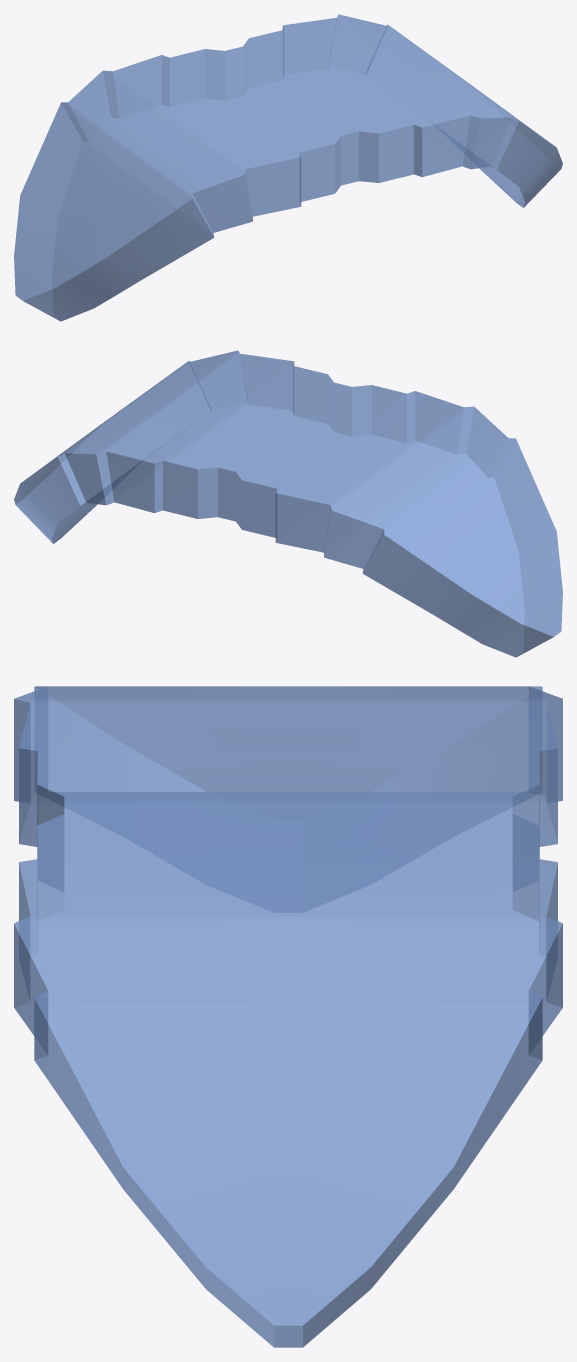
Rendered from RailBlazerMagicShield.fbx.
The picture shows the model from 3 angles, top to bottom: view 1: azimuth 30°, elevation 25°; view 2: azimuth 150°, elevation 25°; view 3: azimuth 270°, elevation 25°; orthographic projection. The views are drawn at different scales.
Parts seen in each view (by area): view 1: pPlane5; view 2: pPlane5; view 3: pPlane5.
Boxes of the visible parts, x1=… form: pPlane5: x1=14, y1=14, x2=562, y2=321; pPlane5: x1=14, y1=350, x2=562, y2=657; pPlane5: x1=14, y1=686, x2=562, y2=1347.
Size of the model in its own units: 47.72 by 14.43 by 21.82.
